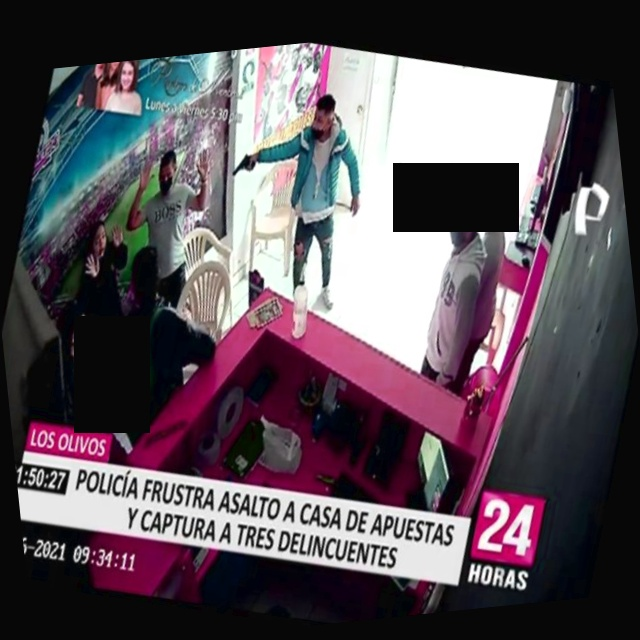gun: (222, 134, 268, 188)
